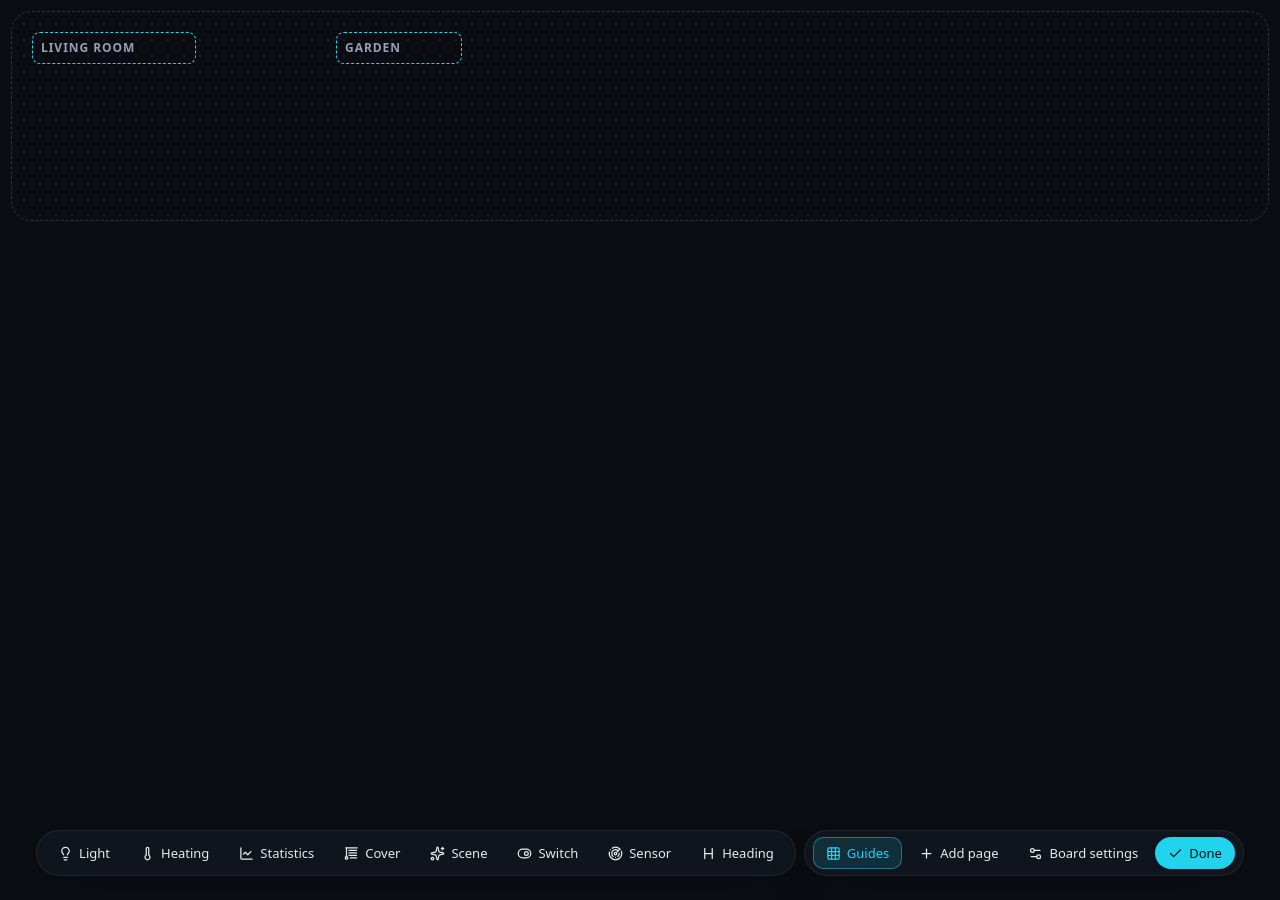
Test: lets an editor add a heading, name it, and saves it with the version it started from
Expected: the heading "Garden" is shown, [345,39,401,57]
Click the button "Heading" at (737, 853), box [688,837,787,869]
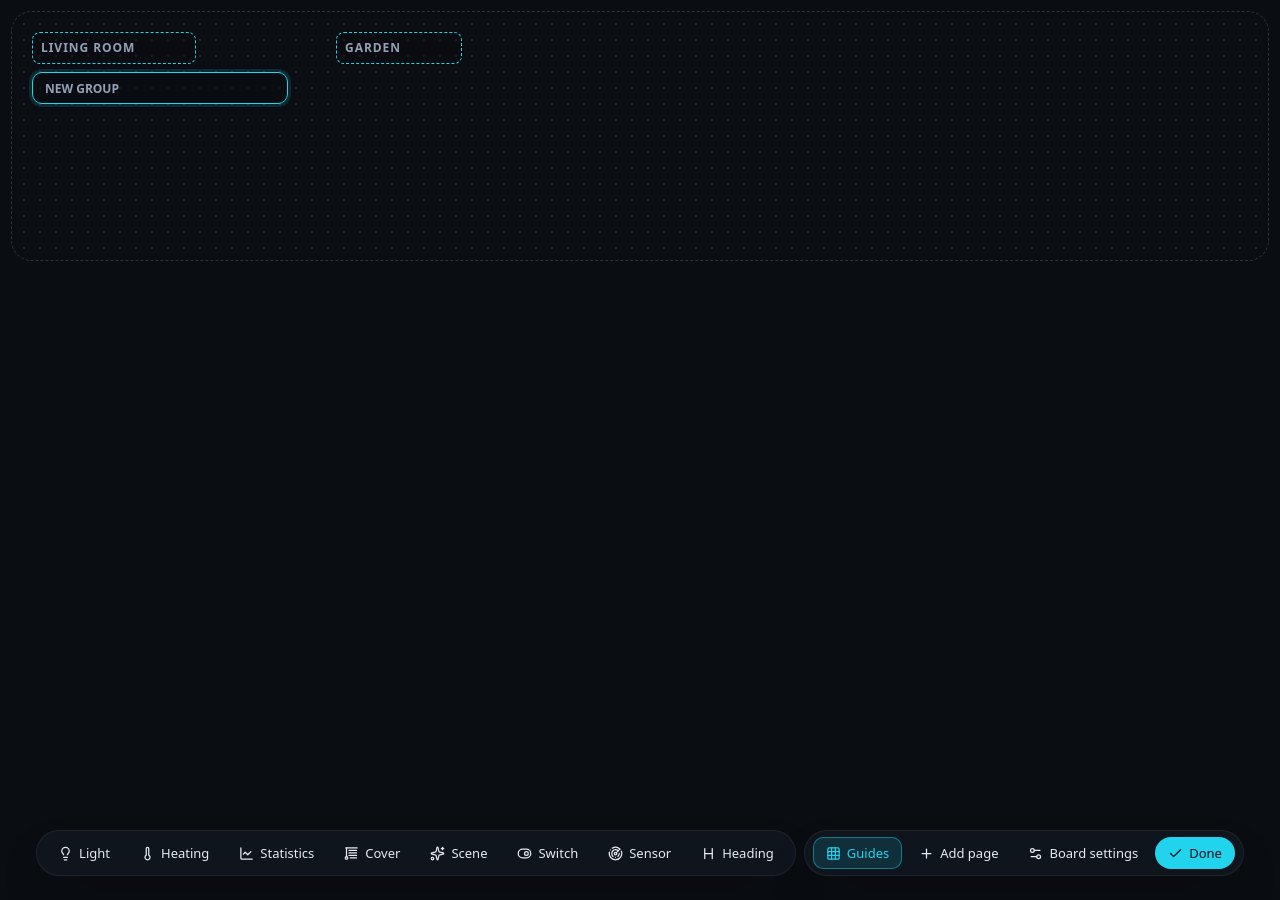
Replace the text in the field named "Name of the heading" with "Upstairs" at (160, 88), box [32,72,288,104]
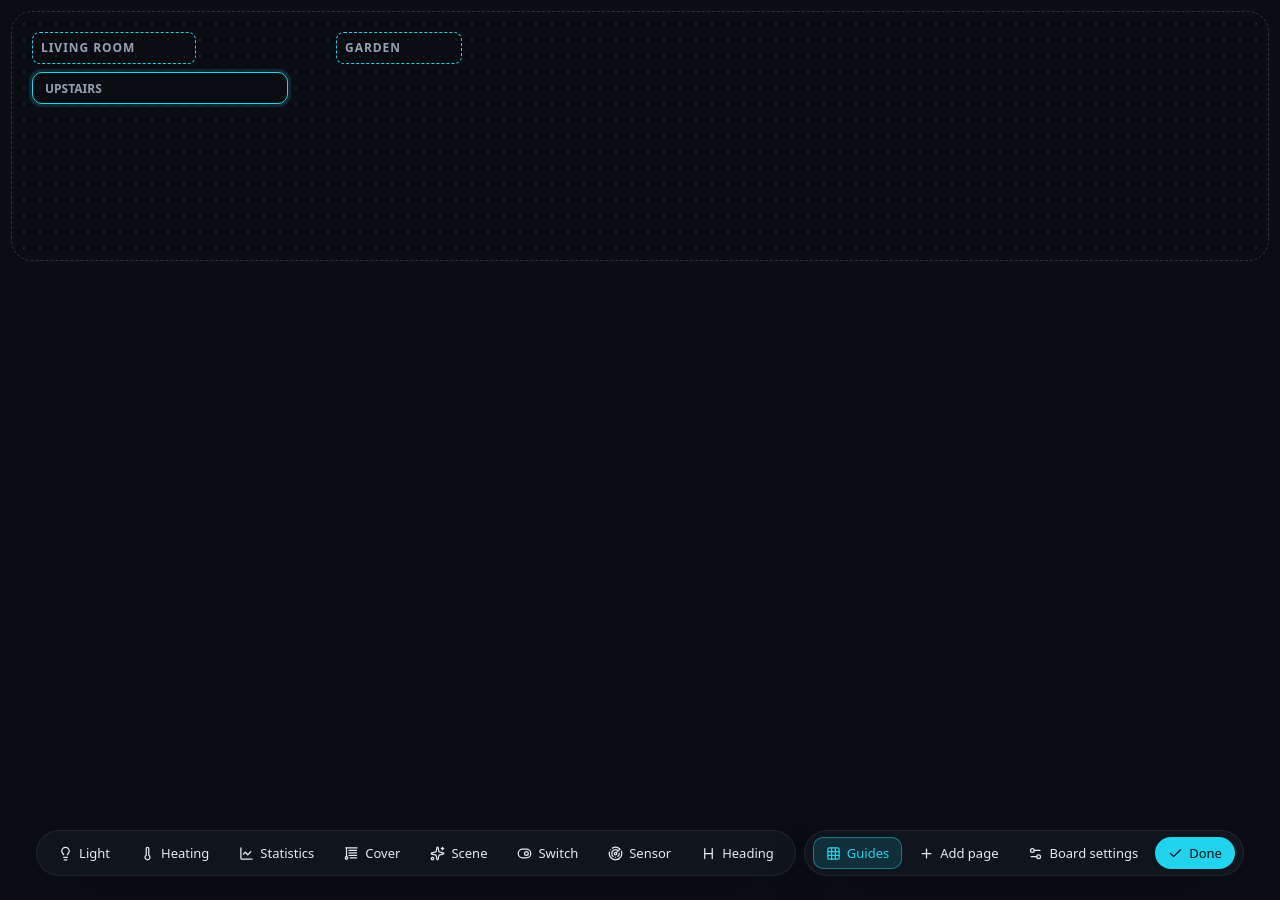
Press Enter in the field named "Name of the heading", box [32,72,288,104]
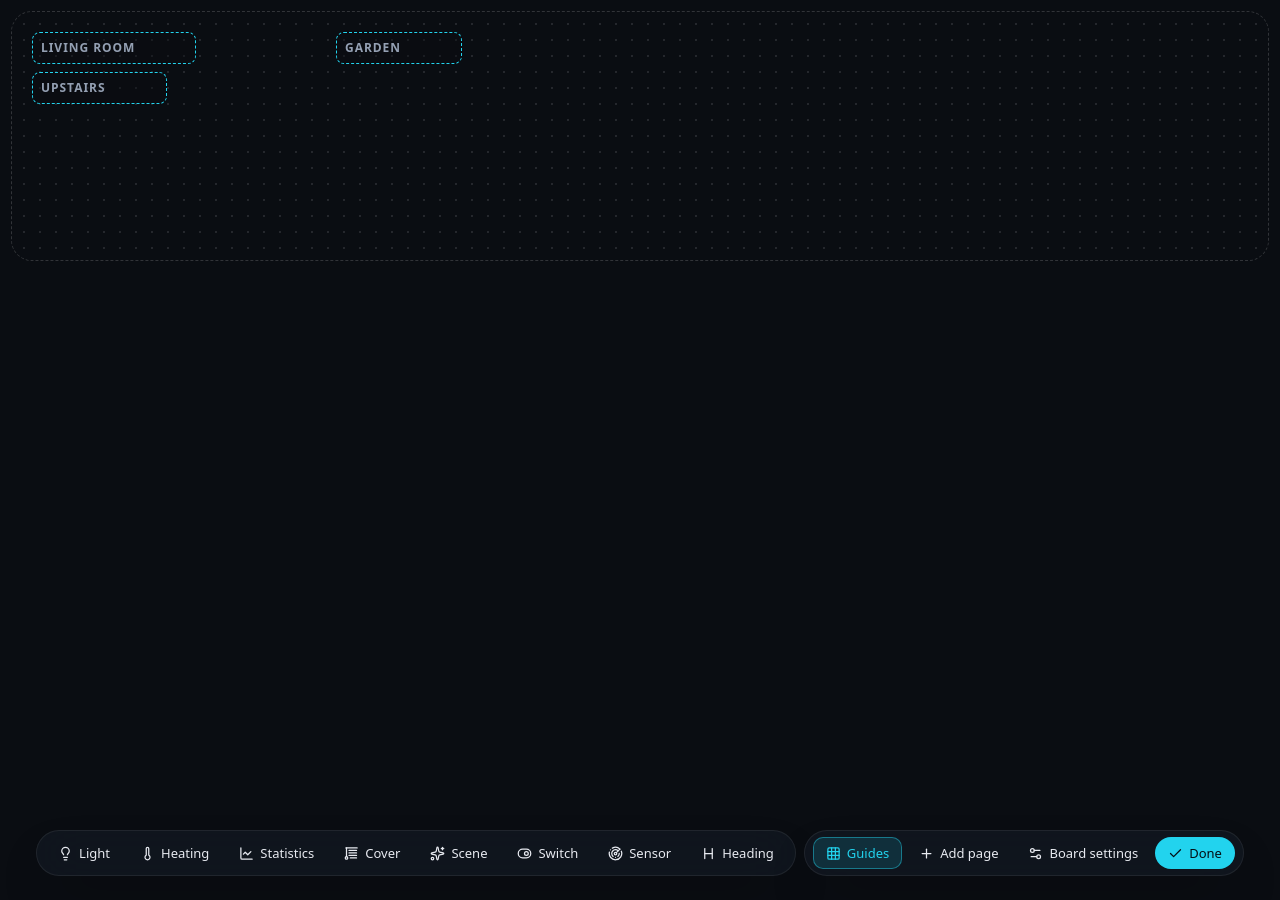
Result: the heading "Upstairs" is shown at [41,79,106,97]
